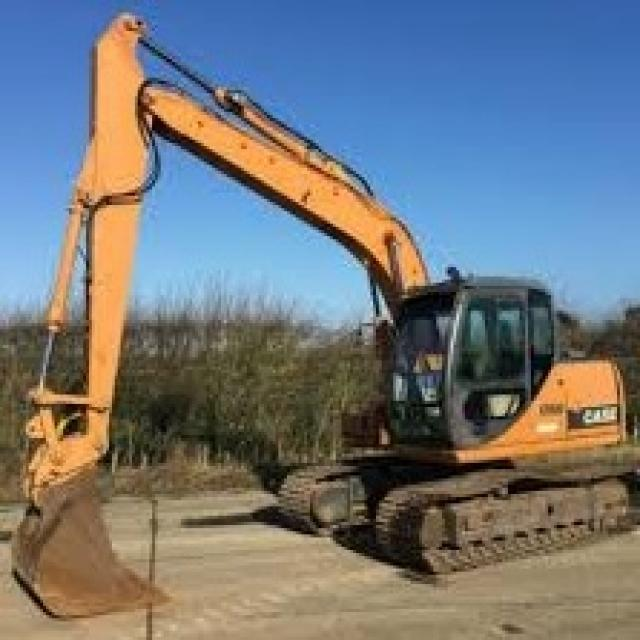excavator: (319, 273, 633, 567)
